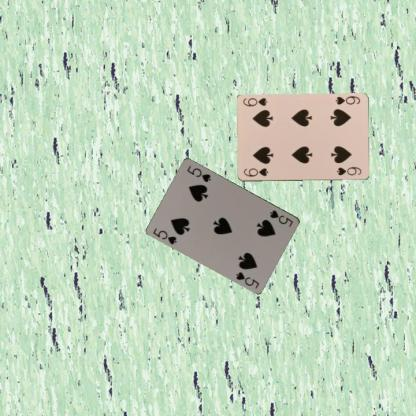5s: (151, 224, 178, 245), (268, 207, 294, 228)
6s: (241, 166, 269, 178), (333, 94, 361, 106)
